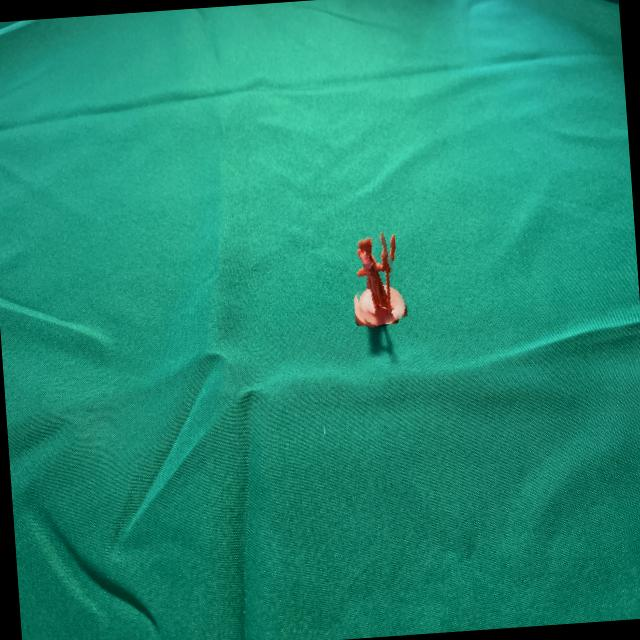amon_follower: (356, 231, 407, 328)
